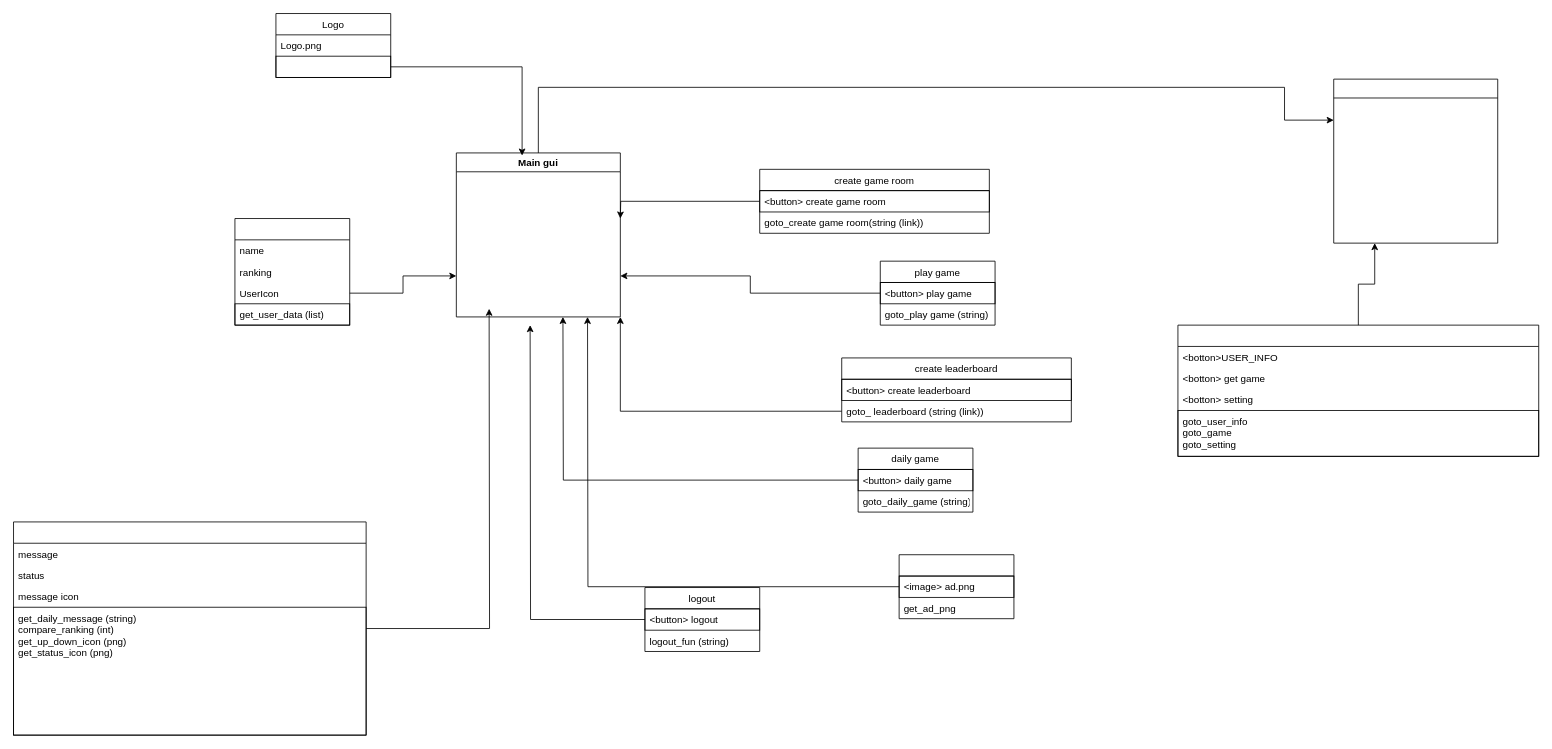
Image size: 1552x749. Some labels were removed from this diagram. The box of each missing label's shape, as (x1, y1, x2, y2) in pixels:
ad: (898, 554, 1014, 619)
daily Report: (13, 521, 366, 735)
logoShow (Logo.png): (275, 55, 391, 77)
manu: (1333, 78, 1498, 243)
namu: (1177, 324, 1539, 456)
user Info: (234, 218, 350, 325)
